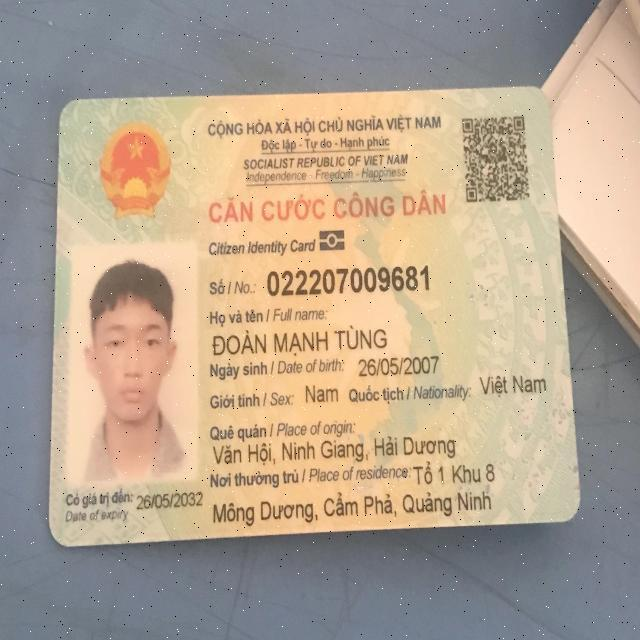current_place: (209, 490, 497, 527), (407, 455, 498, 488)
dob: (358, 354, 450, 379)
expire_date: (134, 491, 210, 512)
gender: (302, 382, 343, 410)
id: (264, 264, 431, 298)
name: (208, 328, 395, 353)
nationality: (477, 369, 547, 405)
origin_place: (204, 436, 459, 469)
